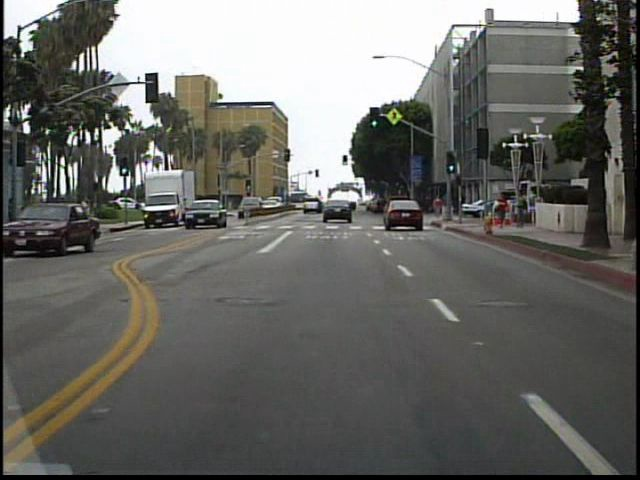person: (76, 194, 93, 238), (429, 194, 445, 219)
